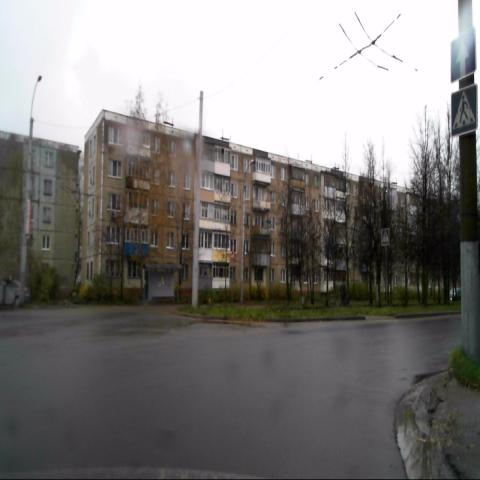5_19_1: (451, 84, 477, 138), (381, 228, 389, 244)
5_5: (451, 27, 476, 83)
